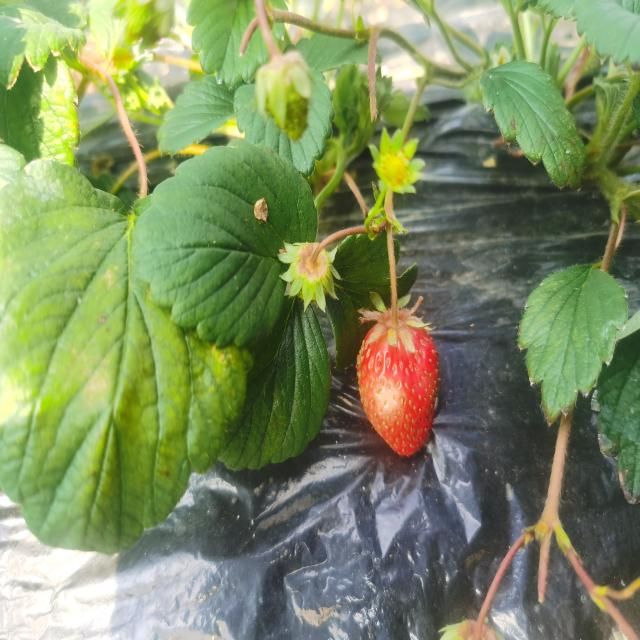stem: (387, 243, 400, 327)
strawberry: (357, 314, 440, 456)
